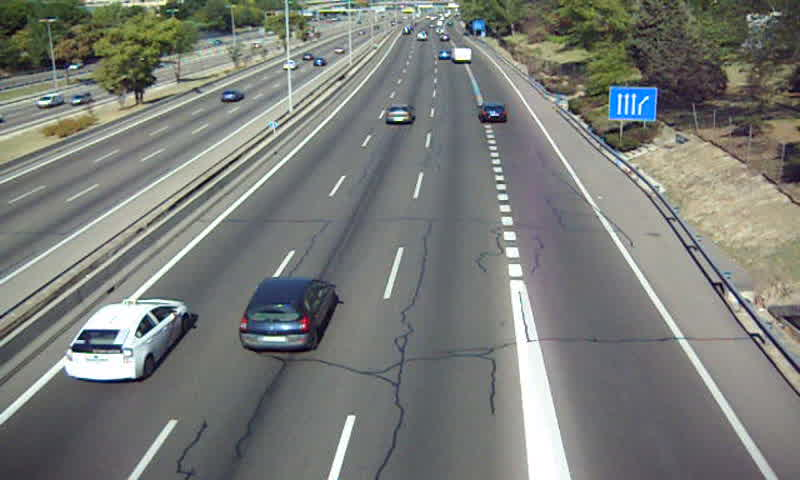car: (66, 300, 189, 381), (239, 277, 336, 352), (385, 104, 414, 127), (476, 103, 508, 123)
van: (450, 48, 473, 63)
